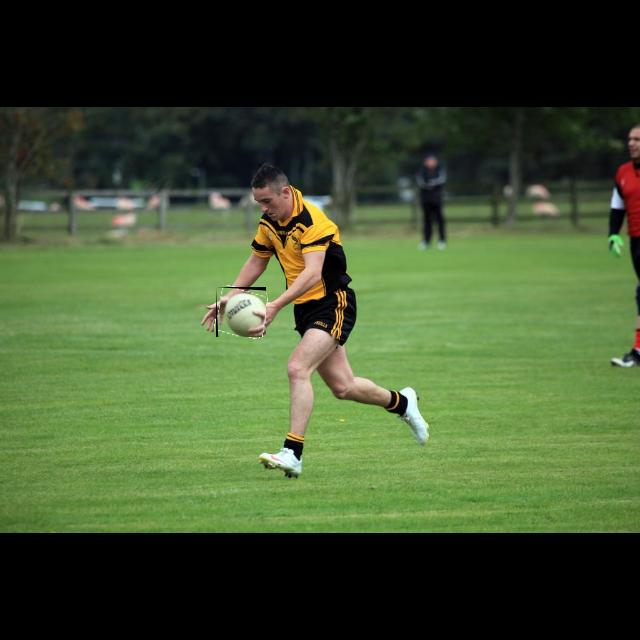Football: (216, 287, 266, 337)
